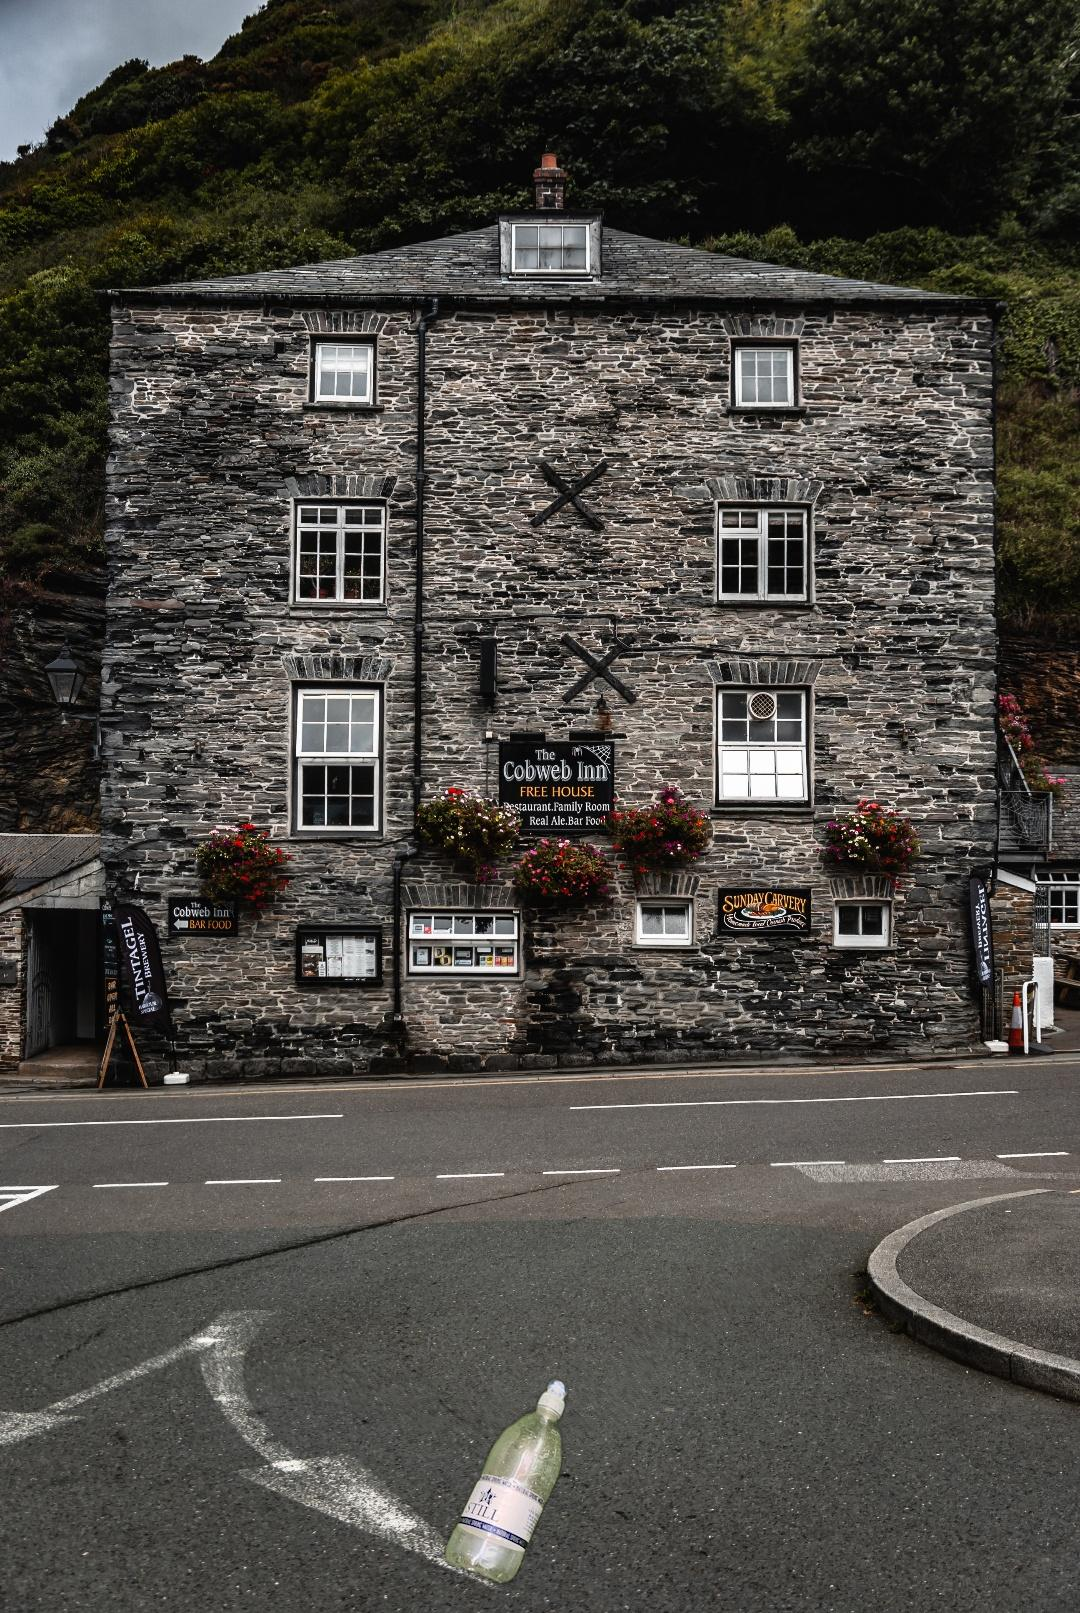plastic-bottles: (441, 1372, 573, 1588)
